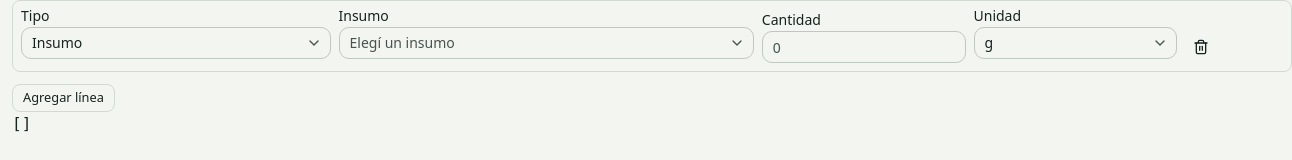
Test: ComponentLinesEditor › la unidad se acota a las compatibles con la unidad base del componente elegido
Click the dropdown labelled "insumo" at (402, 42), box [338,27,754,59]
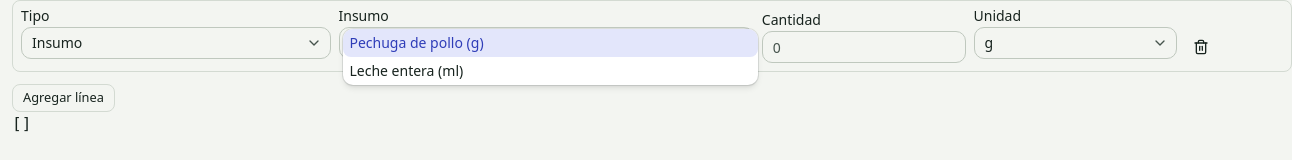
Click the option "Leche entera (ml)" at (406, 70), box [350,61,463,80]
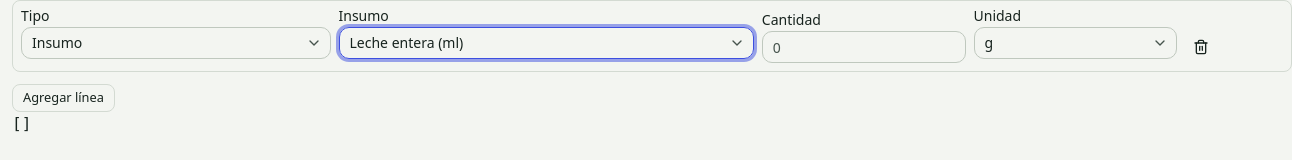
Click the dropdown named "Unidad" at (1075, 43), box [974,27,1177,59]
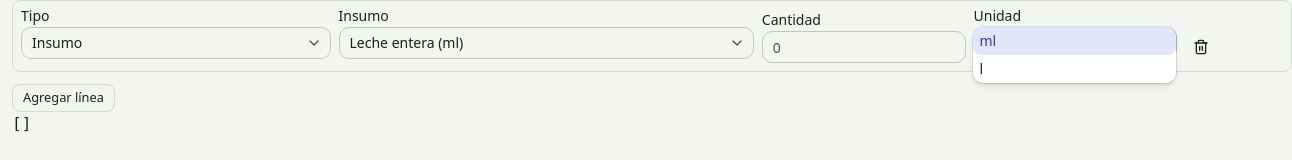
Result: the option "ml" is shown at [974,27,1176,55]
Result: the option "l" is shown at [980,59,983,78]
